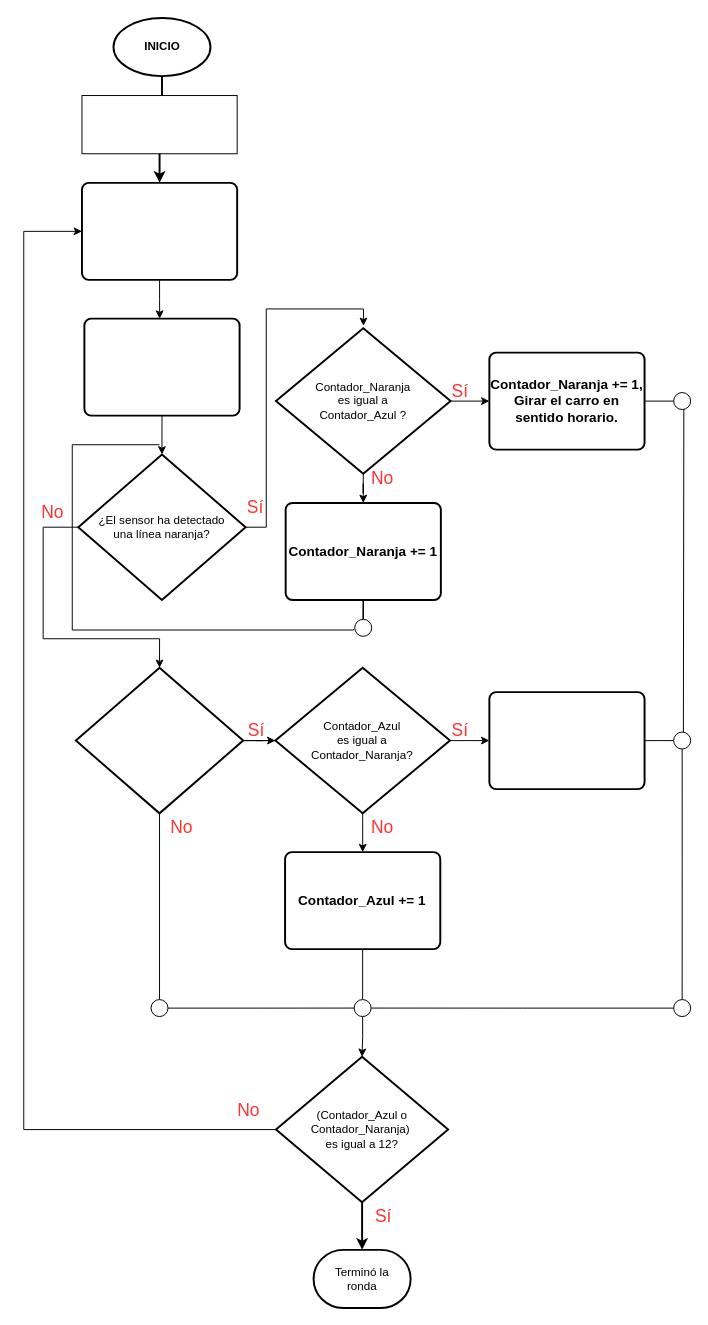
Image size: 708x1325. Some labels were removed from this diagram. Here are the shapes that lost their labels. From the top down, the centre of each, then its label:
(x=159, y=124): Contador_Naranja, Contador_Azul : Integer
(x=159, y=230): Avanza el carro
(x=161, y=366): Moverse al centro (distancia derecha e izquierda son iguales)
(x=159, y=740): ¿El sensor ha detectado una línea azul?
(x=566, y=740): Contador_Azul += 1, Girar el carro en sentido anti-horario.
